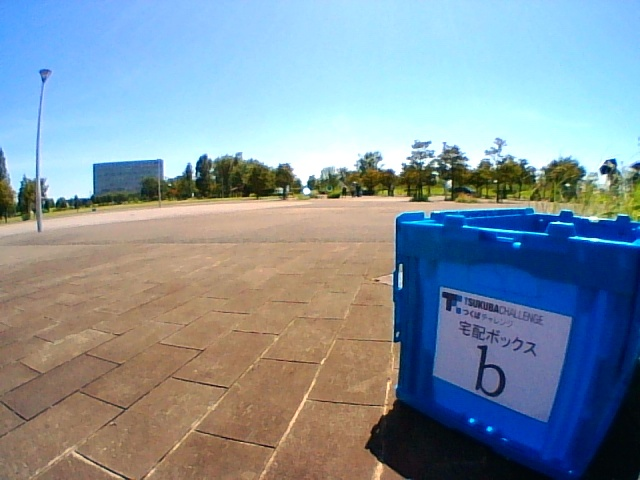blue_box: (398, 211, 640, 423)
tag_b: (454, 315, 535, 396)
